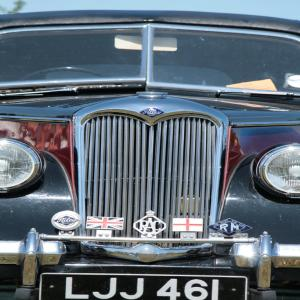Vehicle-registration-plate: (38, 275, 250, 300)
